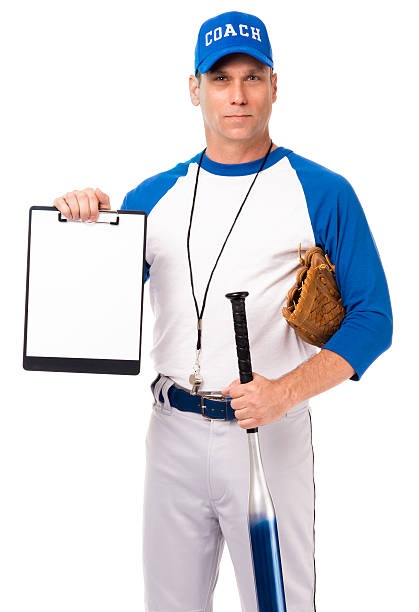bita: (221, 287, 292, 612)
